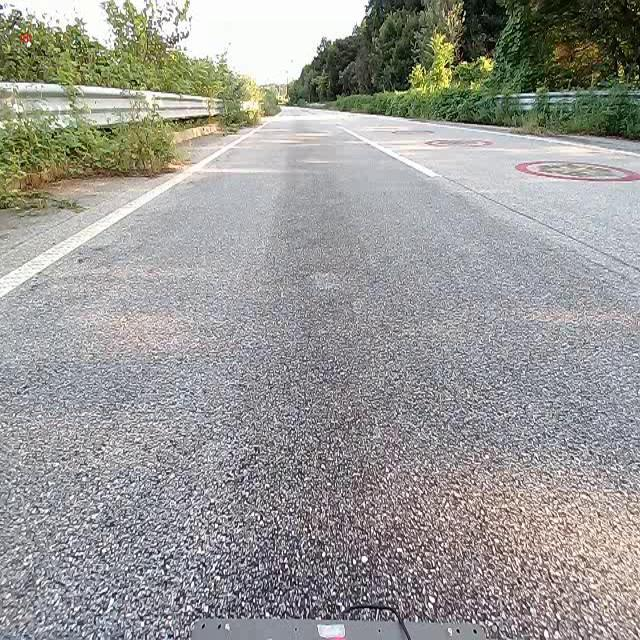Lane: (0, 108, 283, 297), (0, 126, 262, 298), (323, 112, 453, 190), (341, 125, 441, 178)
